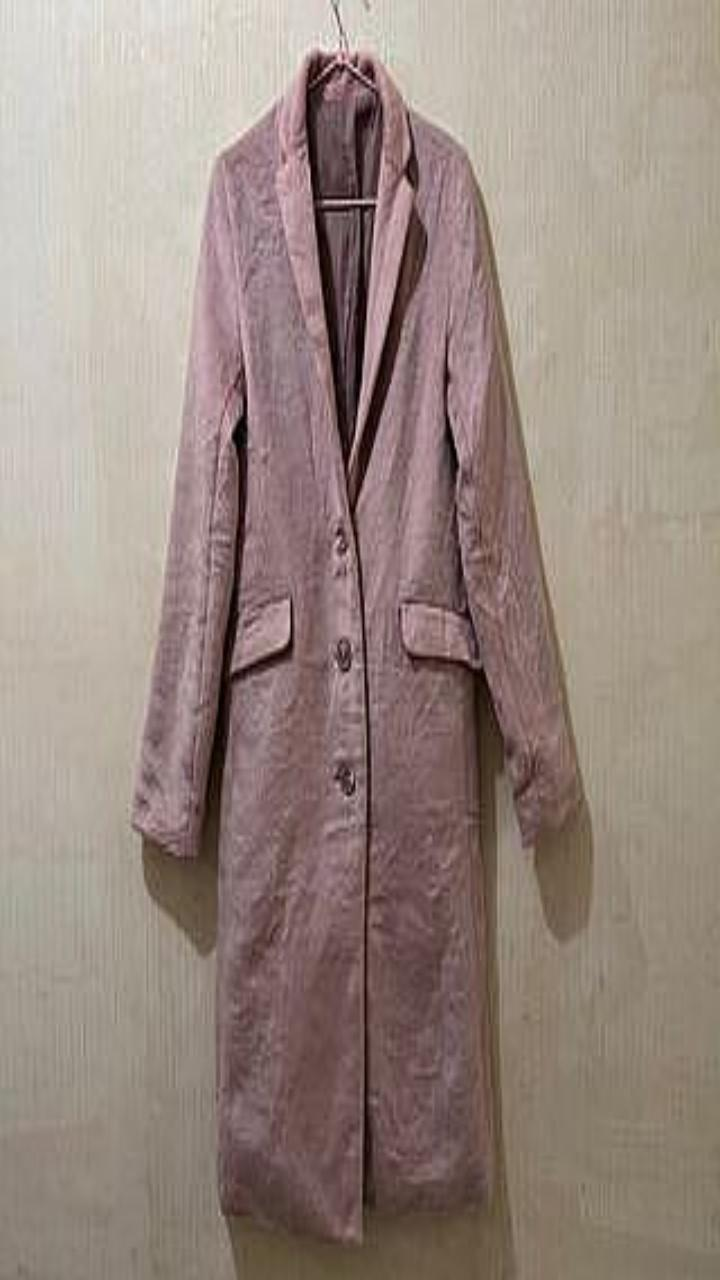Coat: (132, 48, 580, 1241)
